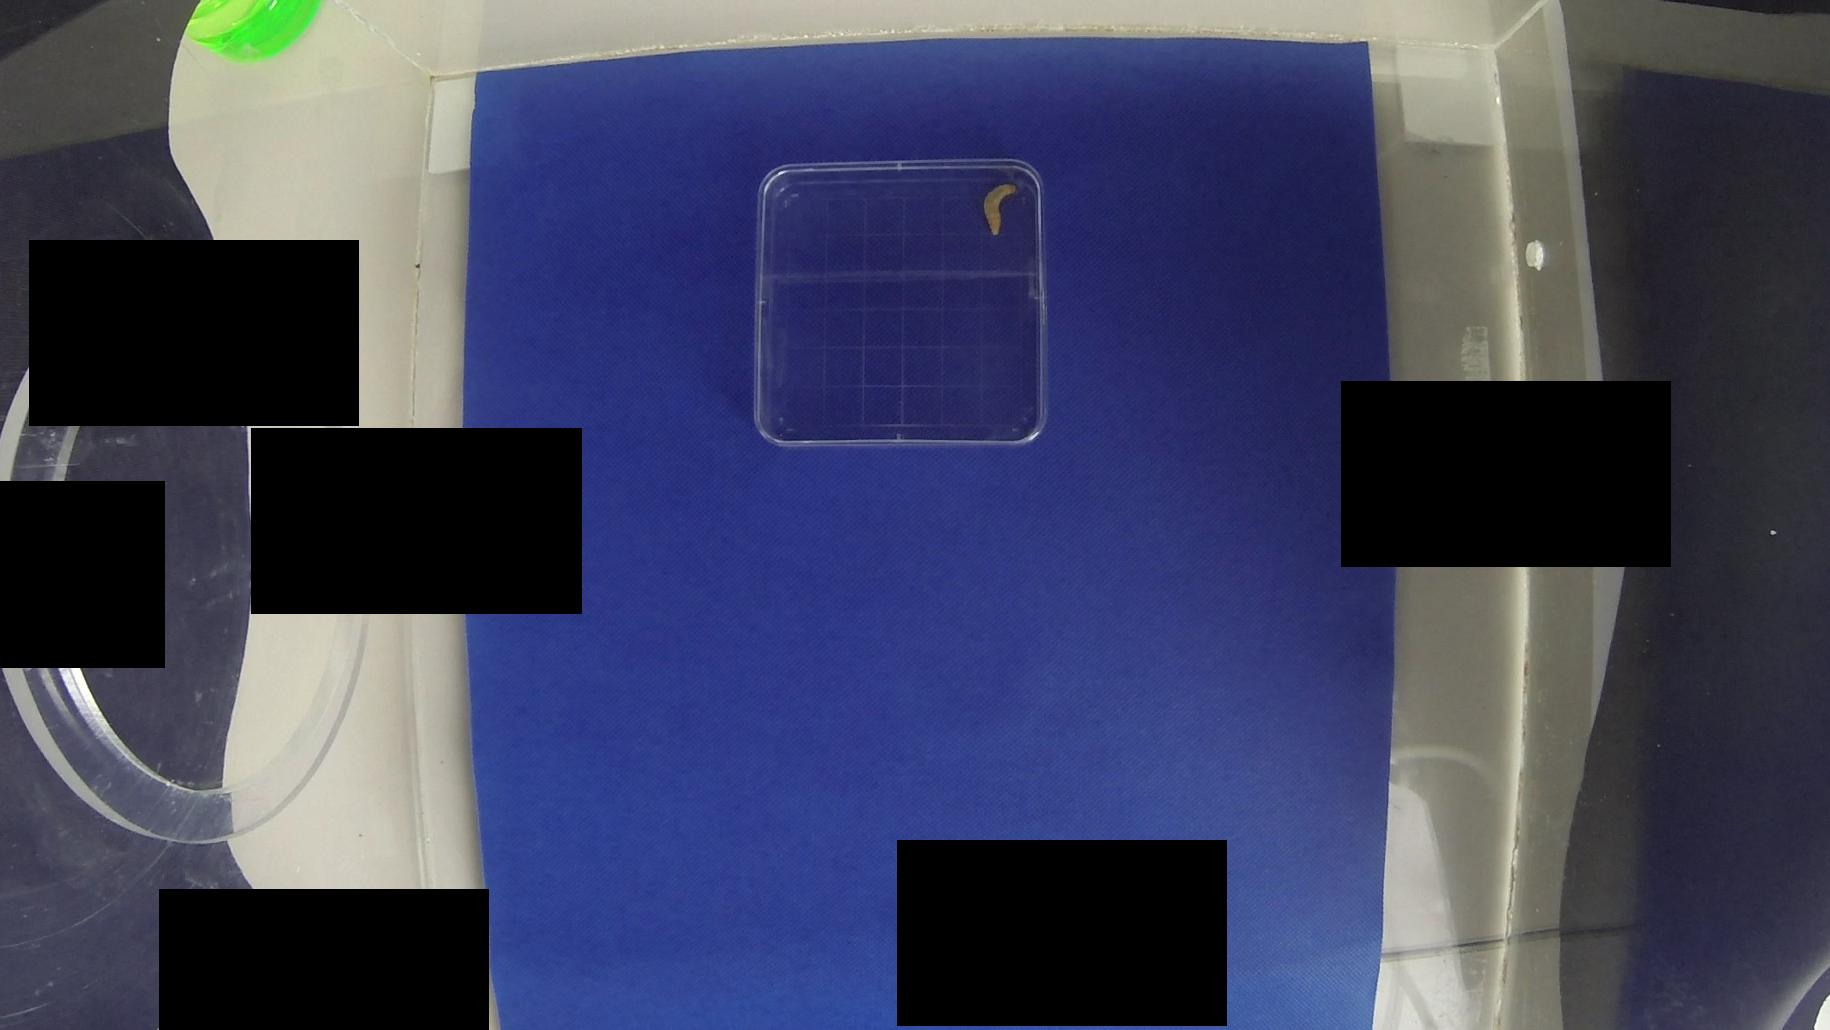larva: (978, 175, 1019, 239)
